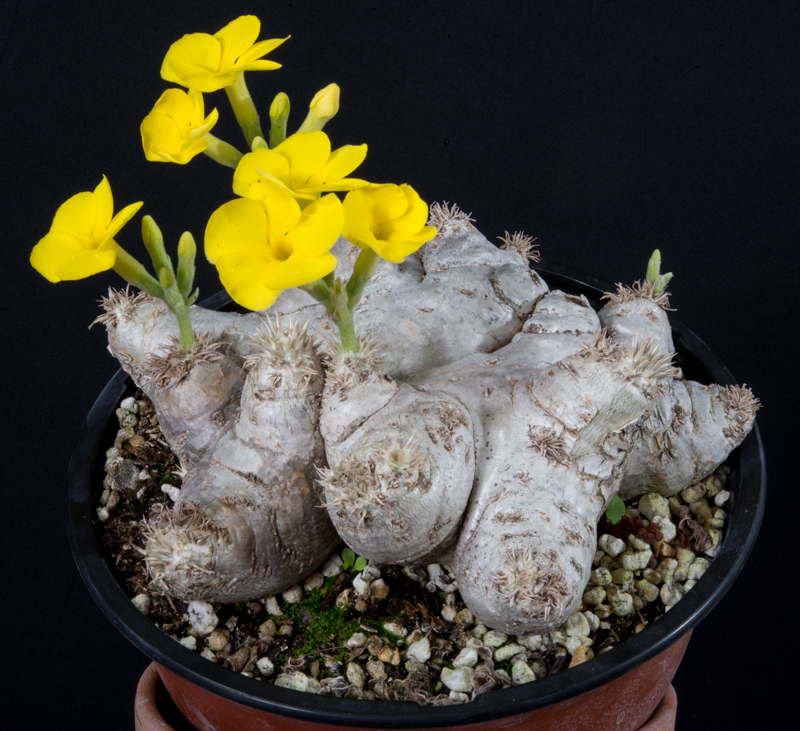Pachypodium brevicaule: (110, 123, 763, 635)
